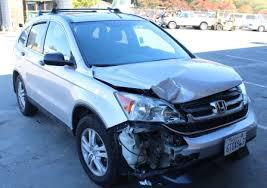bonnet-dent: (104, 67, 226, 104)
front-bumper-dent: (120, 126, 217, 172)
